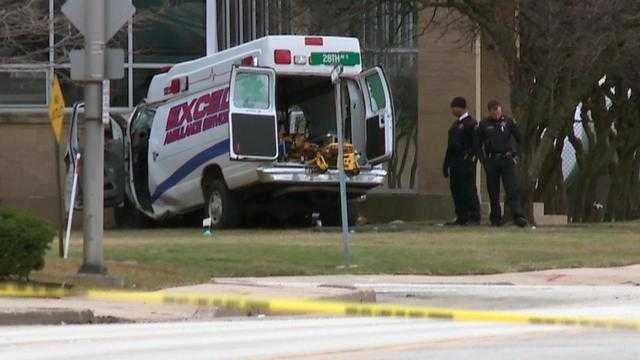car: (122, 34, 395, 229)
